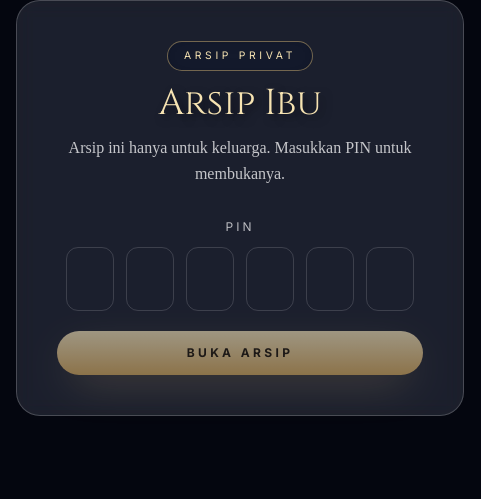
Scenario: ArchivePinGate (six-digit) › unlocks only after the server confirms success (no optimistic unlock)
Type "1" into the password field named "Digit PIN ke-1" at (90, 279), box [66,247,114,311]
Type "3" into the password field named "Digit PIN ke-2" at (150, 279), box [126,247,174,311]
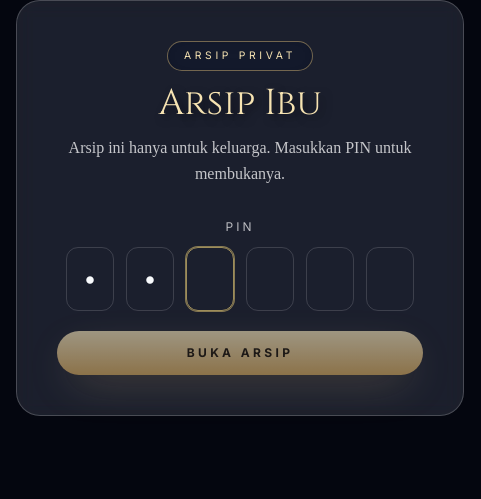
Type "5" into the password field named "Digit PIN ke-3" at (210, 279), box [186,247,234,311]
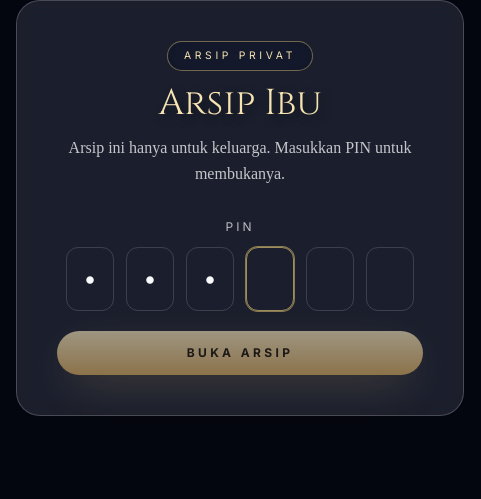
Type "7" into the password field named "Digit PIN ke-4" at (270, 279), box [246,247,294,311]
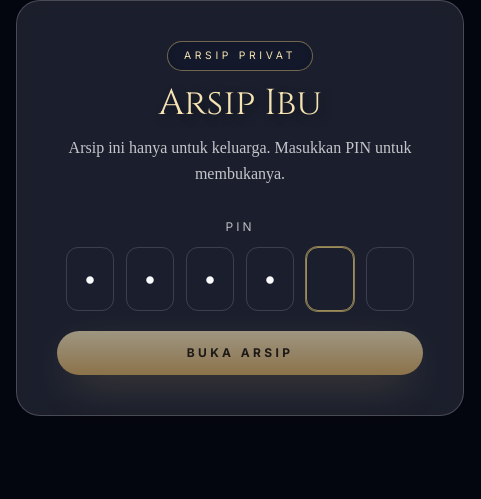
Type "9" into the password field named "Digit PIN ke-5" at (330, 279), box [306,247,354,311]
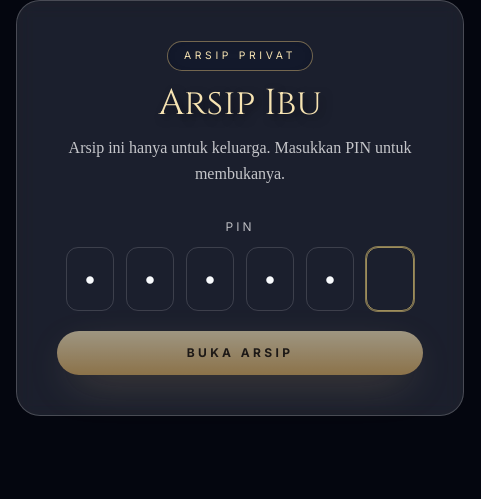
Type "0" into the password field named "Digit PIN ke-6" at (390, 279), box [366,247,414,311]
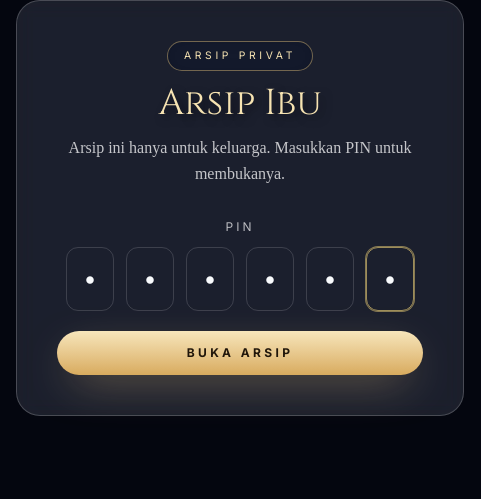
Click the button "Buka Arsip" at (240, 353), box [57,331,423,375]
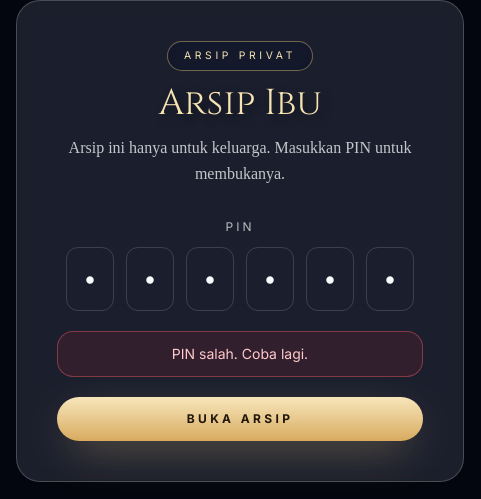
Result: the message "PIN salah. Coba lagi." is shown at [57,331,423,377]
